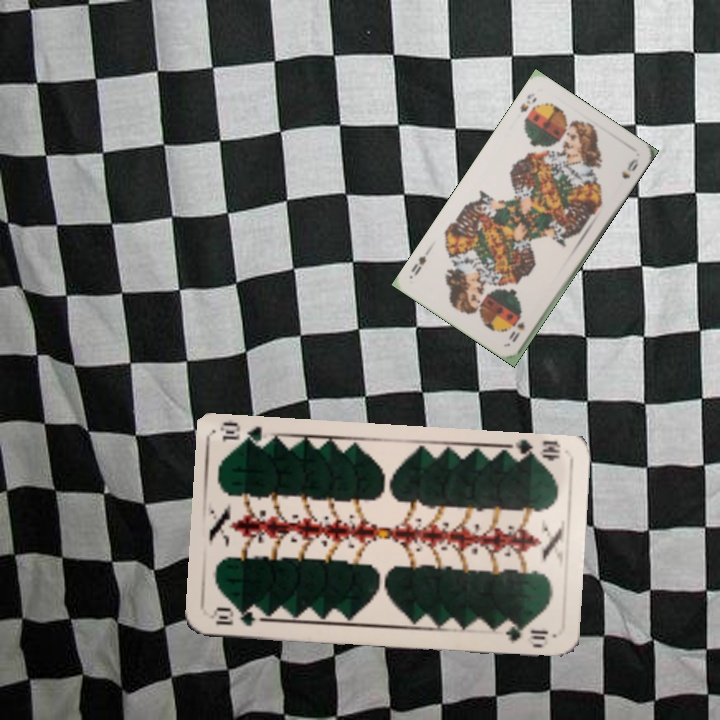G10: (508, 437, 564, 465), (207, 604, 258, 629)
SO: (516, 89, 539, 115), (508, 317, 528, 345)
